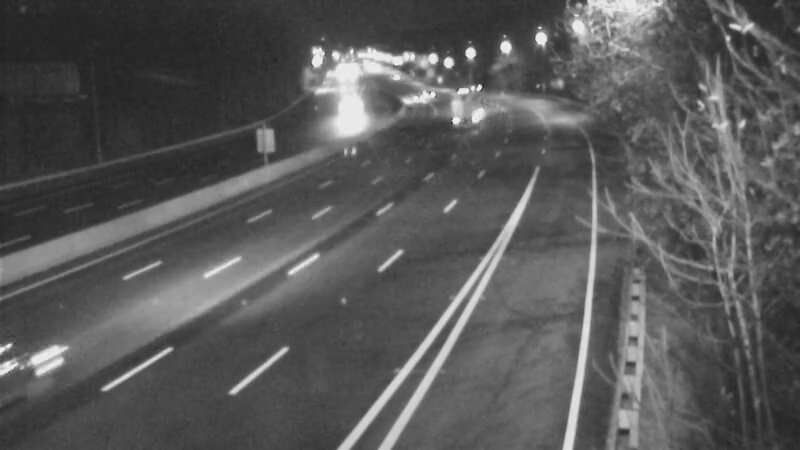vehicle: (369, 51, 419, 101), (412, 67, 462, 117), (388, 73, 438, 123), (451, 79, 501, 129), (325, 80, 375, 130)
